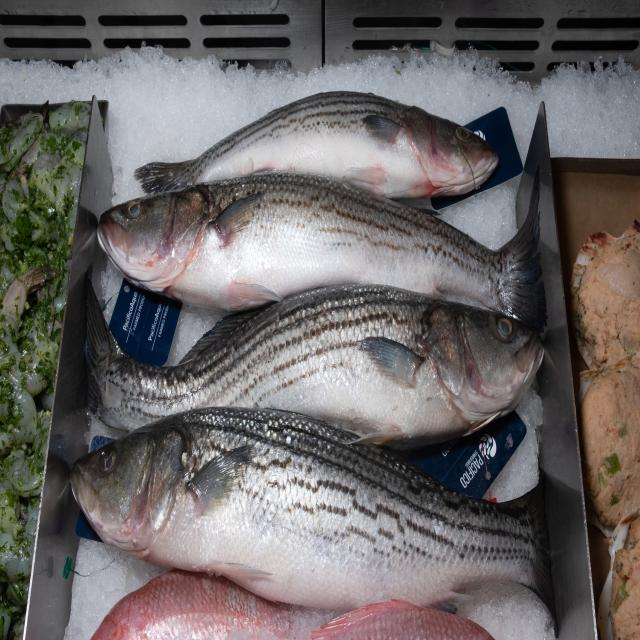Bass - Striped: (71, 409, 553, 609), (86, 282, 543, 445), (98, 174, 546, 331), (135, 91, 498, 198), (92, 570, 338, 639), (311, 600, 493, 639)
